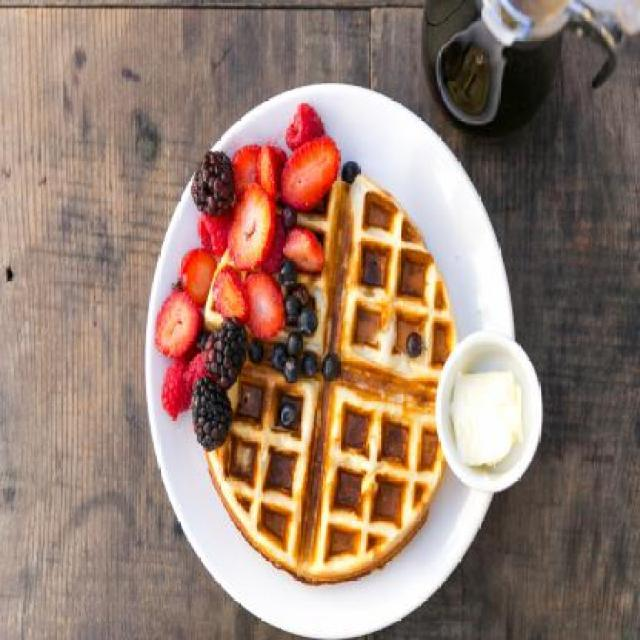Waffle: (203, 172, 457, 586)
